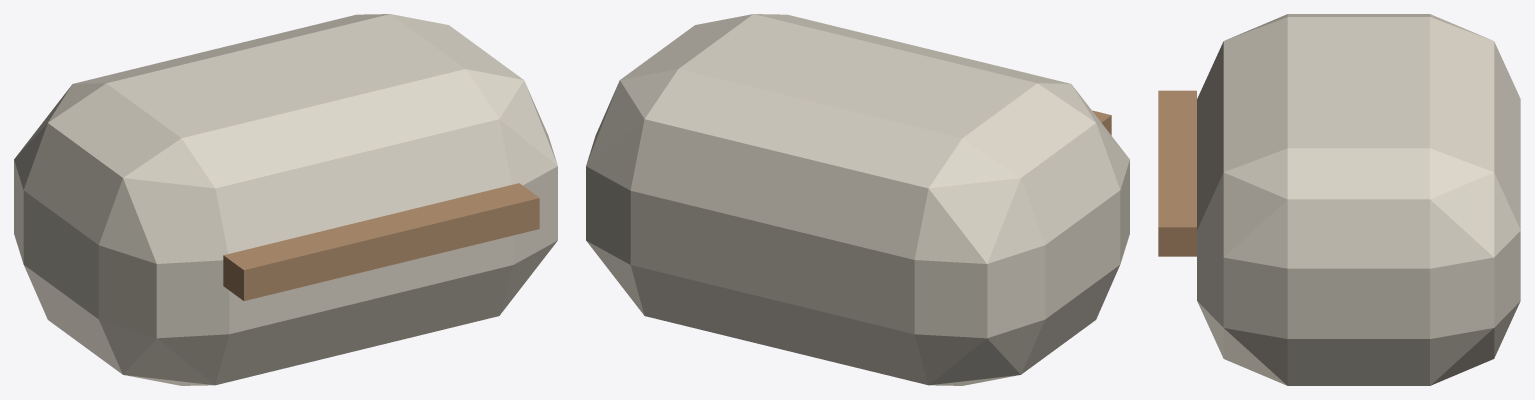
Rendered from cozy-home-interiors-bread-bin-7ff5f73f.glb.
3 views of the same model, side by side, from view 1: azimuth 30°, elevation 25°; view 2: azimuth 150°, elevation 25°; view 3: azimuth 270°, elevation 25° (orthographic). The views are drawn at different scales.
Visible parts, largest first — view 1: bread-bin; view 2: bread-bin; view 3: bread-bin.
Boxes of the visible parts, left/top/right/bottom form: bread-bin: left=14, top=14, right=557, bottom=385; bread-bin: left=586, top=14, right=1129, bottom=385; bread-bin: left=1158, top=14, right=1520, bottom=385.
Bounding box in the file's own units: 0.38 × 0.2 × 0.28.
